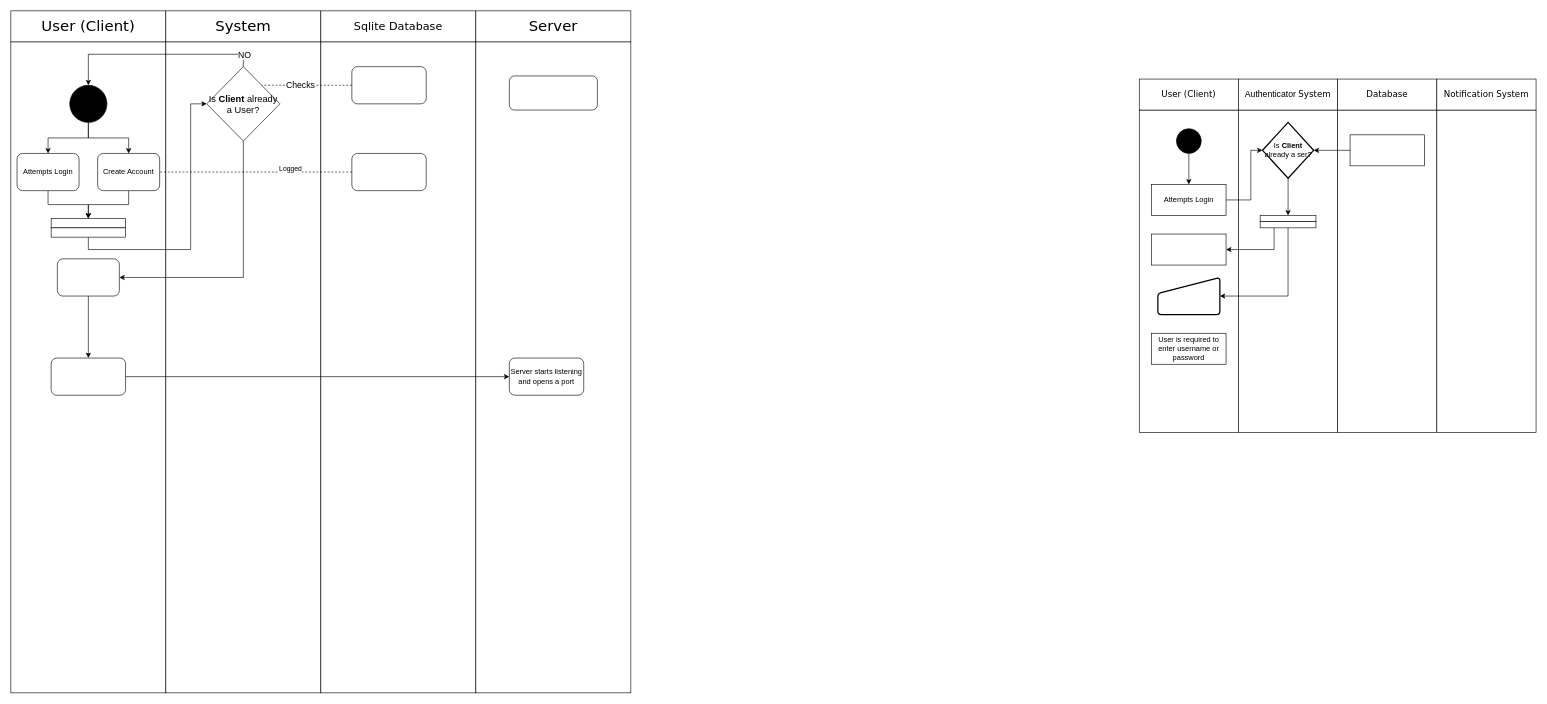
Image size: 1547x704. Some labels were removed from this diagram. Here are the shapes that lost their labels. From the top down, the box of each, then its label:
(351, 66, 426, 104): Database Check
(509, 75, 597, 110): Process the Message, determine the recipent
(1349, 134, 1424, 166): Registered Users
(351, 153, 426, 191): Users account is logged into the database
(1151, 233, 1226, 265): Logged in
(57, 258, 119, 296): User is Granted Access
(1157, 277, 1220, 315): Sign in
(51, 357, 126, 395): User Hosts
